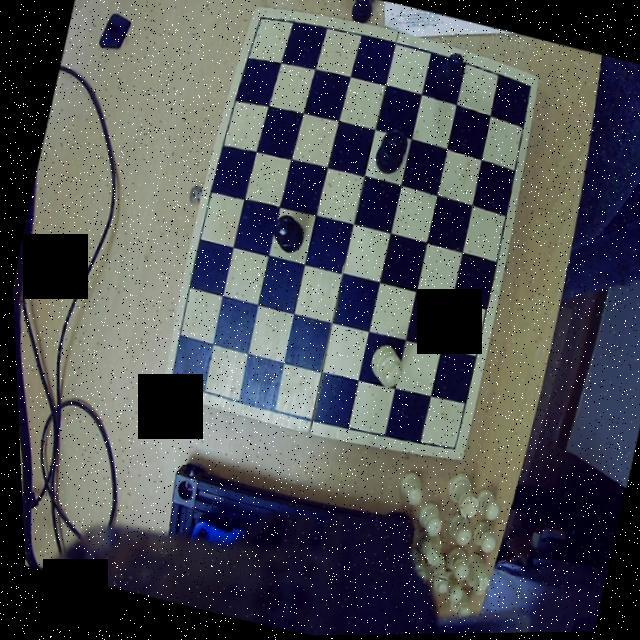chess-table-corners: (158, 366, 186, 396), (434, 436, 461, 462), (517, 75, 539, 106), (252, 7, 276, 32)
